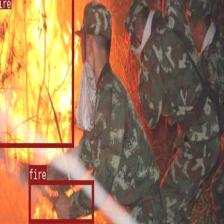fire: (0, 0, 74, 147), (28, 180, 94, 222)
